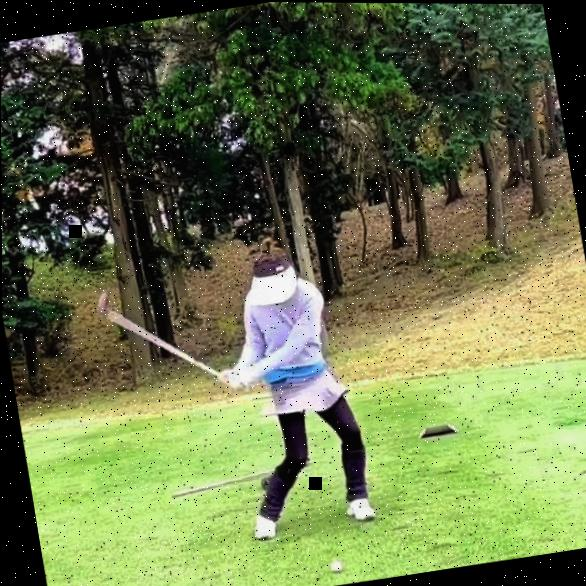ClubHead: (95, 290, 112, 315)
GolfBall: (329, 560, 341, 572)
